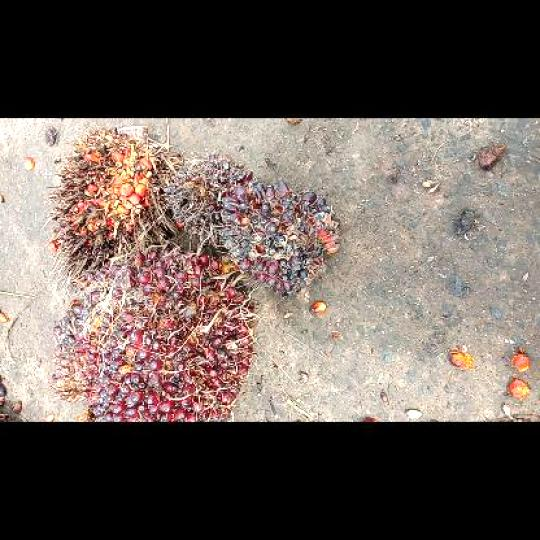masak: (45, 242, 259, 420)
terlalu masak: (43, 123, 178, 295)
